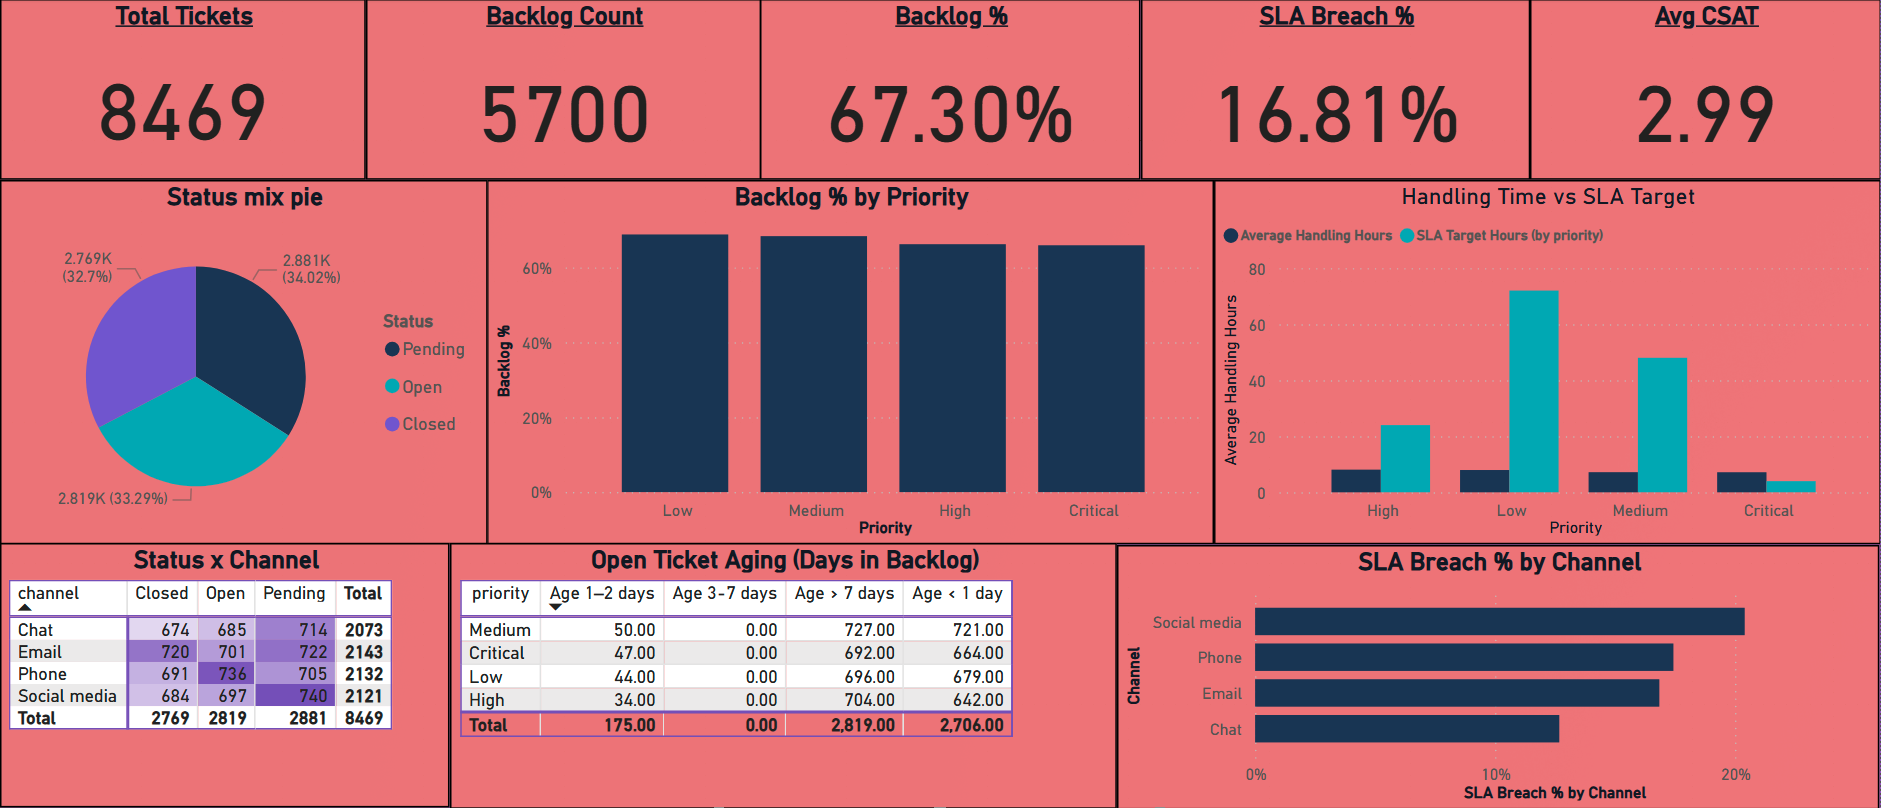

Layout of this report page (visuals, bound fields, positions):
{"tool":"powerbi","page":{"name":"Page 1","canvas":[1280,720],"ordinal":0},"visuals":[{"type":"card","title":"Backlog Count","fields":{"Values":["KPI Measures.Backlog Count"]},"box":[248.9,0,268.8,123.5],"z":0},{"type":"card","title":"Total Tickets","fields":{"Values":["KPI Measures.Total Tickets"]},"box":[0,0,248.9,123.5],"z":1000},{"type":"card","title":"Backlog %","fields":{"Values":["KPI Measures.Backlog %"]},"box":[517.4,0,259,123.2],"z":2000},{"type":"card","title":"SLA Breach %","fields":{"Values":["KPI Measures.SLA Breach %"]},"box":[776.6,0,264.8,123.5],"z":3000},{"type":"card","title":"Avg CSAT","fields":{"Values":["KPI Measures.Average CSAT"]},"box":[1041.4,0,239,123.5],"z":4000},{"type":"lineClusteredColumnComboChart","title":"Handling Time vs SLA Target","fields":{"Category":["ticketing_db v_avg_handling_by_priority.priority"],"Y":["KPI Measures.Average Handling Hours","KPI Measures.SLA Target Hours (by priority)"]},"box":[826.4,123.2,453.6,248.3],"z":5000},{"type":"lineClusteredColumnComboChart","title":"Backlog % by Priority","fields":{"Category":["ticketing_db v_backlog_by_priority.priority"],"Y":["KPI Measures.Backlog %_2"]},"box":[331.7,123.2,494.7,248.3],"z":6000},{"type":"pieChart","title":"Status mix pie","fields":{"Category":["ticketing_db v_status_mix.status"],"Y":["Sum(ticketing_db v_status_mix.ticket_count)"]},"box":[0,123.2,331.7,248.3],"z":7000},{"type":"pivotTable","title":"Status x Channel","fields":{"Columns":["ticketing_db v_channel_status.status"],"Rows":["ticketing_db v_channel_status.channel"],"Values":["Sum(ticketing_db v_channel_status.ticket_count)"]},"box":[0,370.4,306.4,180.4],"z":8000},{"type":"tableEx","title":"Open Ticket Aging (Days in Backlog)","fields":{"Values":["ticketing_db v_open_age_buckets (2).priority","Sum(ticketing_db v_open_age_buckets (2).d_1_2)","Sum(ticketing_db v_open_age_buckets (2).d_3_7)","Sum(ticketing_db v_open_age_buckets (2).d_gt_7)","Sum(ticketing_db v_open_age_buckets (2).d_lt_1)"]},"box":[306.4,370.4,454.1,181.1],"z":9000},{"type":"clusteredBarChart","title":"SLA Breach % by Channel","fields":{"Category":["ticketing_db v_sla_by_channel.channel"],"Y":["KPI Measures.SLA Breach % by Channel"]},"box":[760.5,371.7,519.5,179.7],"z":10000},{"type":"clusteredColumnChart","fields":{"Category":["ticketing_db v_sla_summary.priority"],"Y":["KPI Measures.SLA Breach %"]},"box":[486.8,550.8,305.7,169.5],"z":11000}]}

Visuals, with their boxes on the page's 1280x720 design canvas (x1, y1, x2, y2). These are canvas units, not pixel positions in the 1881x808 screenshot, which may show the page scaled, cropped or inside an application window:
"Backlog Count" card: Rect(249, 0, 518, 124)
"Total Tickets" card: Rect(0, 0, 249, 124)
"Backlog %" card: Rect(517, 0, 776, 123)
"SLA Breach %" card: Rect(777, 0, 1041, 124)
"Avg CSAT" card: Rect(1041, 0, 1280, 124)
"Handling Time vs SLA Target" lineClusteredColumnComboChart: Rect(826, 123, 1280, 372)
"Backlog % by Priority" lineClusteredColumnComboChart: Rect(332, 123, 826, 372)
"Status mix pie" pieChart: Rect(0, 123, 332, 372)
"Status x Channel" pivotTable: Rect(0, 370, 306, 551)
"Open Ticket Aging (Days in Backlog)" tableEx: Rect(306, 370, 760, 552)
"SLA Breach % by Channel" clusteredBarChart: Rect(760, 372, 1280, 551)
clusteredColumnChart - ticketing_db v_sla_summary.priority x KPI Measures.SLA Breach %: Rect(487, 551, 792, 720)
